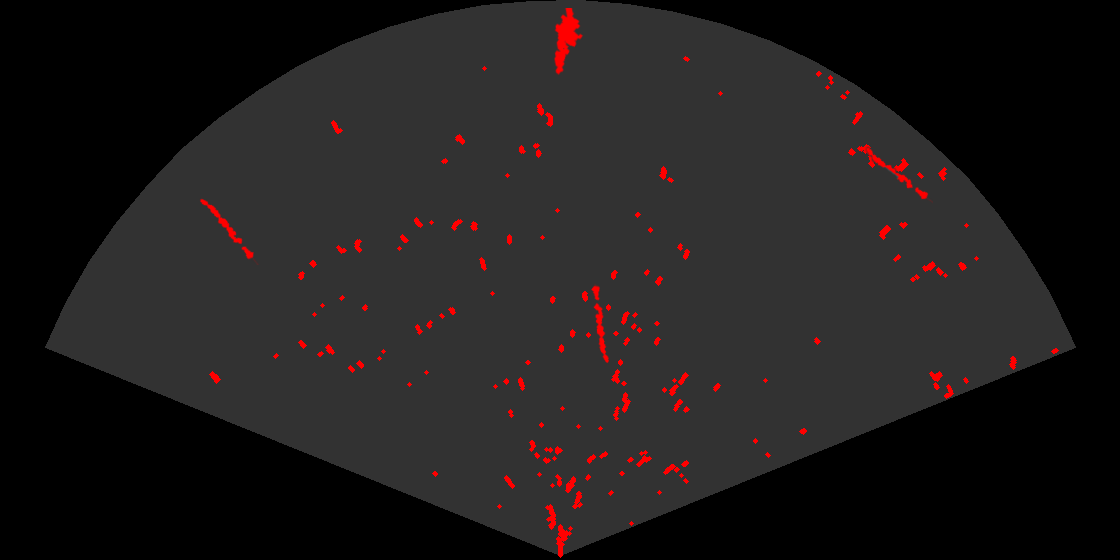chain: (198, 197, 260, 265), (865, 146, 933, 205), (590, 284, 610, 365)
frogman: (552, 8, 585, 75)
